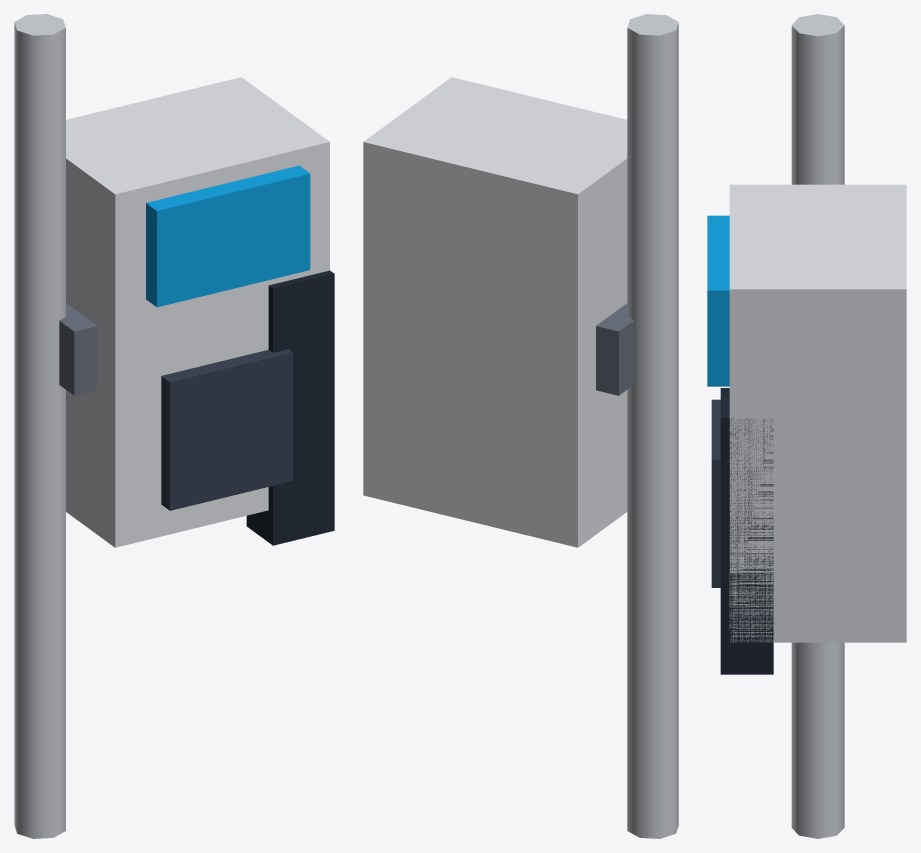
The model's file is parametric-source.glb.
3 views of the same model, side by side, from view 1: azimuth 30°, elevation 25°; view 2: azimuth 150°, elevation 25°; view 3: azimuth 270°, elevation 25° (orthographic).
Visible parts, largest first — view 1: openclinxr.equipment.iv_pump_equipment.pump_body, openclinxr.equipment.iv_pump_equipment.clamp_pole, openclinxr.equipment.iv_pump_equipment.keypad, openclinxr.equipment.iv_pump_equipment.display, openclinxr.equipment.iv_pump_equipment.channel_slot, openclinxr.equipment.iv_pump_equipment.pole_clamp; view 2: openclinxr.equipment.iv_pump_equipment.pump_body, openclinxr.equipment.iv_pump_equipment.clamp_pole, openclinxr.equipment.iv_pump_equipment.pole_clamp; view 3: openclinxr.equipment.iv_pump_equipment.pump_body, openclinxr.equipment.iv_pump_equipment.clamp_pole, openclinxr.equipment.iv_pump_equipment.channel_slot, openclinxr.equipment.iv_pump_equipment.display, openclinxr.equipment.iv_pump_equipment.keypad.
Part boxes in pixels (<box>): openclinxr.equipment.iv_pump_equipment.pump_body: <box>66,77,329,547</box>; openclinxr.equipment.iv_pump_equipment.clamp_pole: <box>14,14,65,838</box>; openclinxr.equipment.iv_pump_equipment.keypad: <box>161,349,292,510</box>; openclinxr.equipment.iv_pump_equipment.display: <box>146,165,310,307</box>; openclinxr.equipment.iv_pump_equipment.channel_slot: <box>246,270,334,545</box>; openclinxr.equipment.iv_pump_equipment.pole_clamp: <box>59,303,97,395</box>; openclinxr.equipment.iv_pump_equipment.pump_body: <box>363,77,627,547</box>; openclinxr.equipment.iv_pump_equipment.clamp_pole: <box>627,14,678,838</box>; openclinxr.equipment.iv_pump_equipment.pole_clamp: <box>596,303,633,395</box>; openclinxr.equipment.iv_pump_equipment.pump_body: <box>729,184,906,642</box>; openclinxr.equipment.iv_pump_equipment.clamp_pole: <box>791,14,844,838</box>; openclinxr.equipment.iv_pump_equipment.channel_slot: <box>720,388,773,674</box>; openclinxr.equipment.iv_pump_equipment.display: <box>707,215,729,386</box>; openclinxr.equipment.iv_pump_equipment.keypad: <box>711,399,720,587</box>.
Size of the model in its own units: 0.175 by 0.5 by 0.1125.
